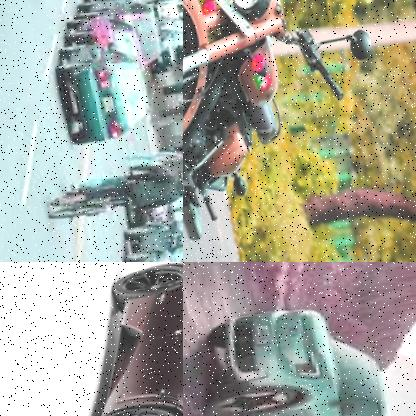bike: (183, 0, 376, 226)
car: (190, 300, 390, 416), (41, 262, 183, 416), (46, 30, 151, 150), (106, 215, 183, 262), (152, 31, 183, 76)
